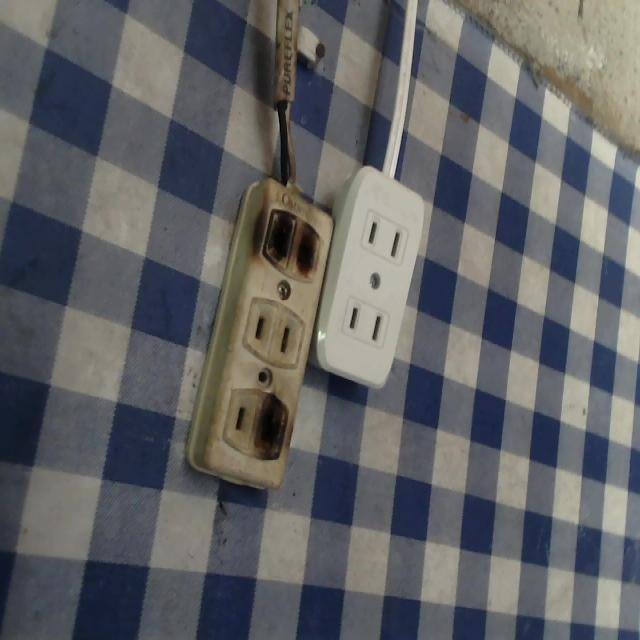-: (256, 203, 327, 281), (257, 386, 294, 466)
